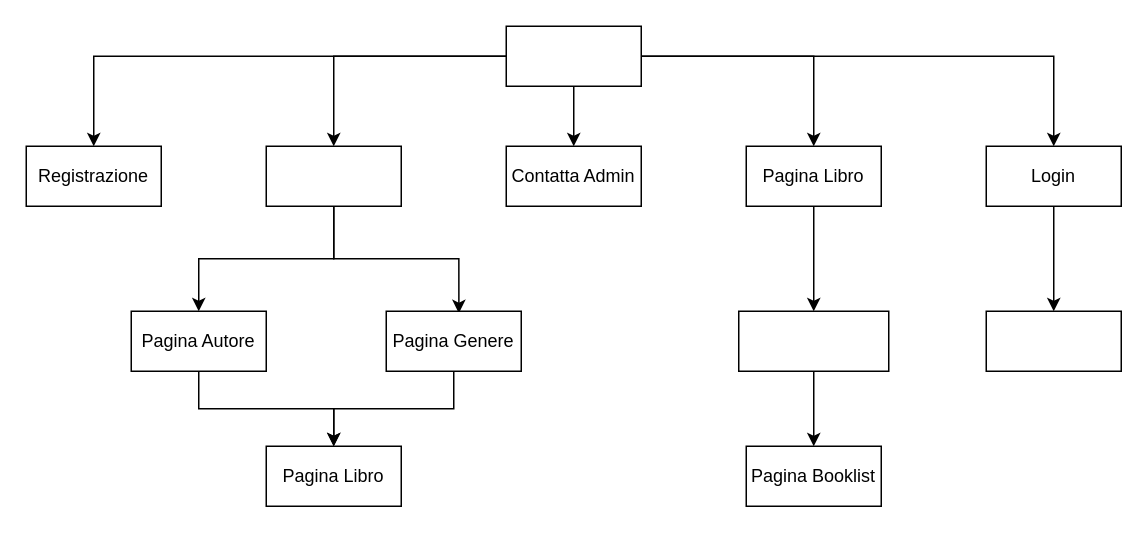
Image size: 1148x533. Some labels were removed from this diagram. Here are the shapes that lost their labels. From the top down, the box of each, then its label:
(505, 25, 641, 86): Home Page (unLogged)
(265, 145, 401, 206): Ricerca
(737, 310, 889, 371): Pagina Utente (dalla recensione)
(985, 310, 1121, 371): Home Page (logged)
